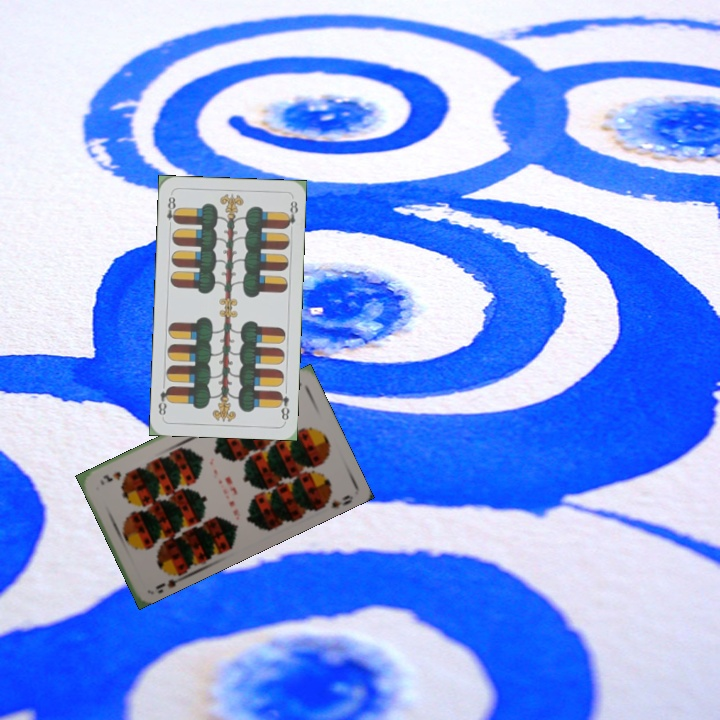E8: (163, 190, 180, 231), (274, 387, 292, 422)
S9: (151, 566, 186, 592)
